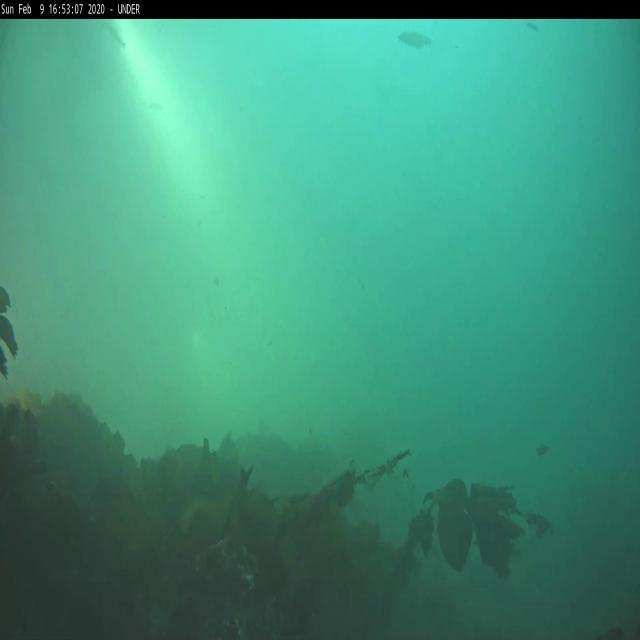fish: (396, 30, 433, 50)
